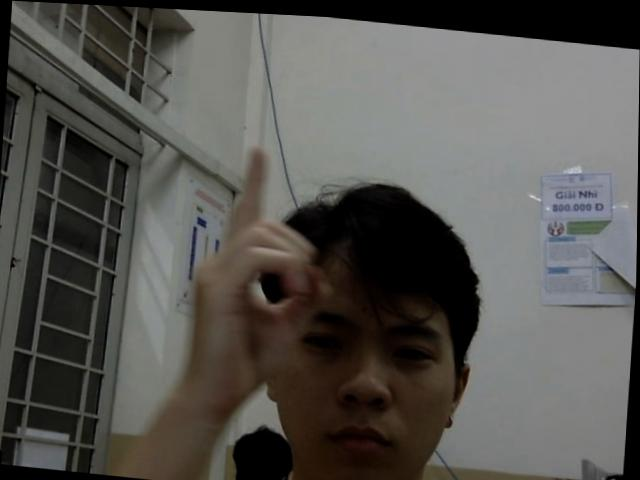D: (184, 138, 334, 402)
